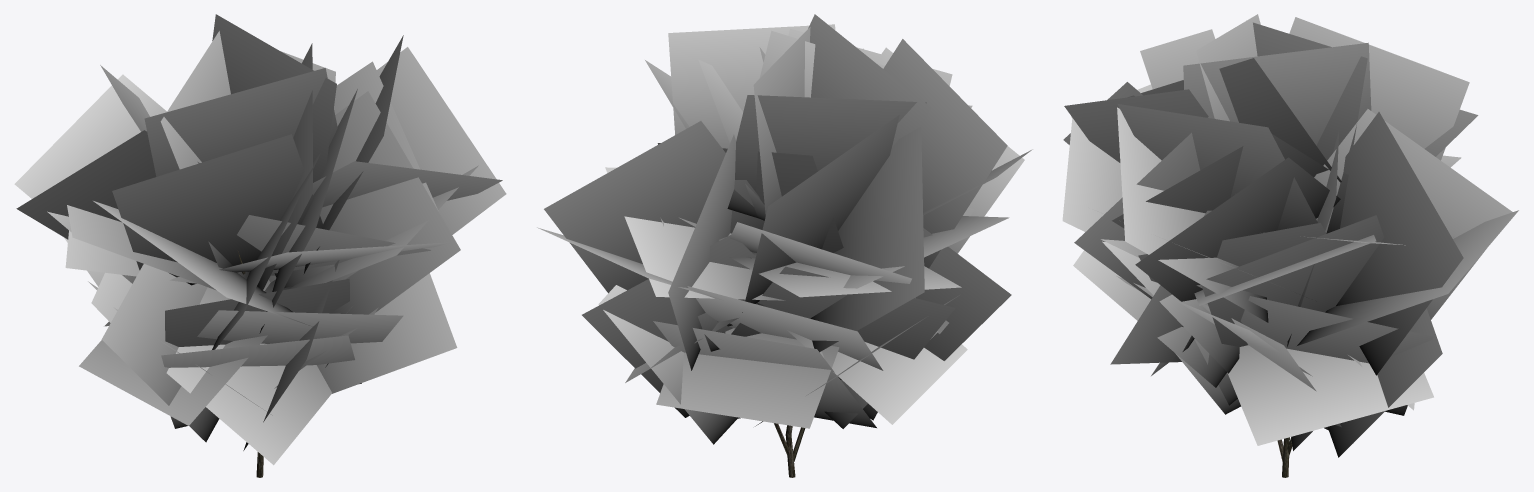
File: tree9A.fbx
The picture shows the model from 3 angles, left to right: view 1: azimuth 30°, elevation 25°; view 2: azimuth 150°, elevation 25°; view 3: azimuth 270°, elevation 25°; orthographic projection. The views are drawn at different scales.
Visible parts, largest first — view 1: Tree9A_leafs, Tree9A_leafs_flip; view 2: Tree9A_leafs, Tree9A_leafs_flip, tree9a_trunk; view 3: Tree9A_leafs, Tree9A_leafs_flip.
Boxes of the visible parts, x1,y1,x2,y2 form: Tree9A_leafs: (14, 14, 506, 465); Tree9A_leafs_flip: (16, 15, 499, 463); Tree9A_leafs: (537, 14, 1032, 444); Tree9A_leafs_flip: (546, 16, 1030, 444); tree9a_trunk: (774, 423, 805, 477); Tree9A_leafs: (1062, 14, 1518, 457); Tree9A_leafs_flip: (1063, 16, 1515, 452).
Size of the model in its own units: 7.11 by 7.66 by 7.27.
